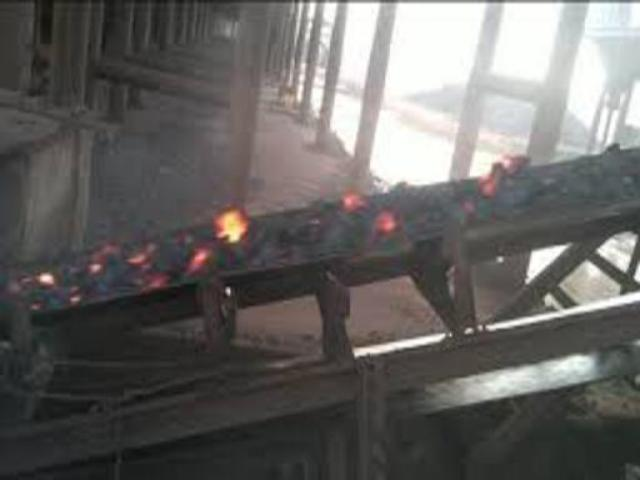conveyor: (0, 137, 640, 332)
